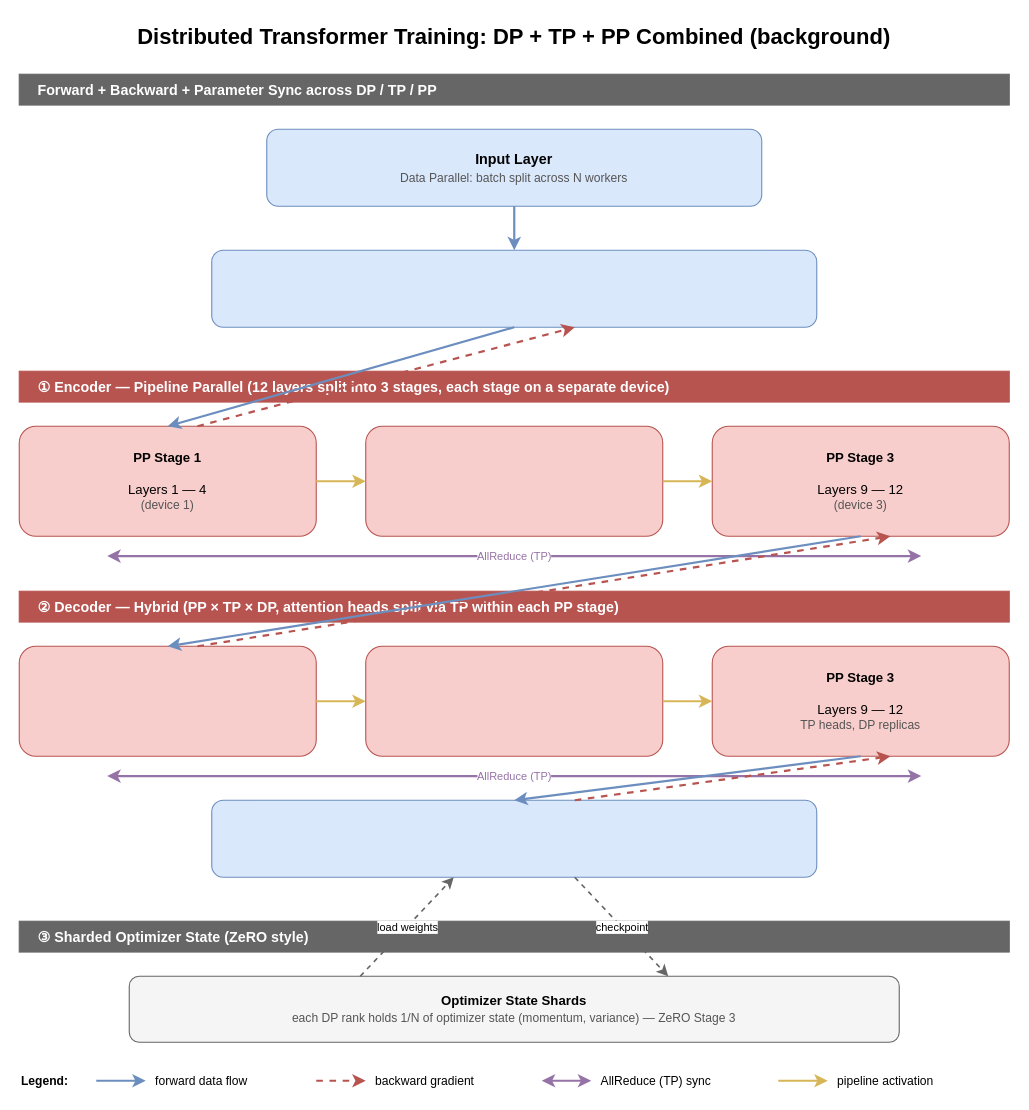
This 1029x1110 diagram has some shape labels left out. Each missing label, with the centre of its shape:
Embedding Layer Tensor Parallel: vocab matrix shard across TP ranks: the point at 514,288
Output Layer DP + TP (logits projected, vocabulary partitioned): the point at 514,838
PP Stage 1 Layers 1 — 4 TP heads, DP replicas: the point at 167,700
PP Stage 2 Layers 5 — 8 (device 2): the point at 514,480
PP Stage 2 Layers 5 — 8 TP heads, DP replicas: the point at 514,700
